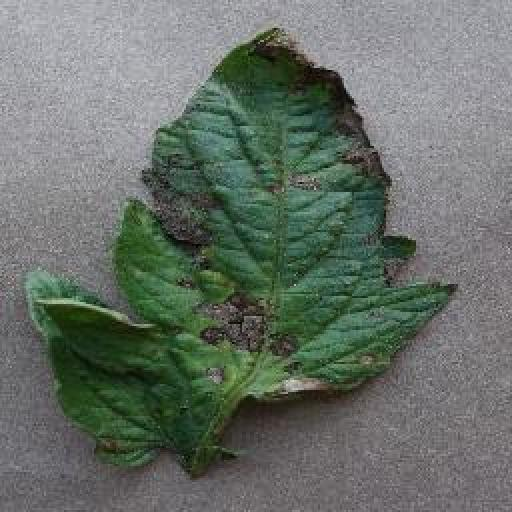Early Blight: (26, 31, 459, 468)
